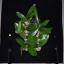leaf: (26, 4, 36, 20), (27, 27, 39, 38), (39, 34, 49, 47), (33, 6, 39, 27), (28, 46, 38, 56), (39, 27, 51, 34), (38, 20, 50, 27), (15, 38, 24, 46), (26, 41, 38, 47), (26, 24, 36, 30), (16, 12, 26, 18), (18, 19, 22, 34), (19, 41, 27, 48), (19, 32, 26, 39), (21, 21, 26, 29), (14, 22, 18, 27), (20, 48, 22, 57), (36, 43, 38, 47)
